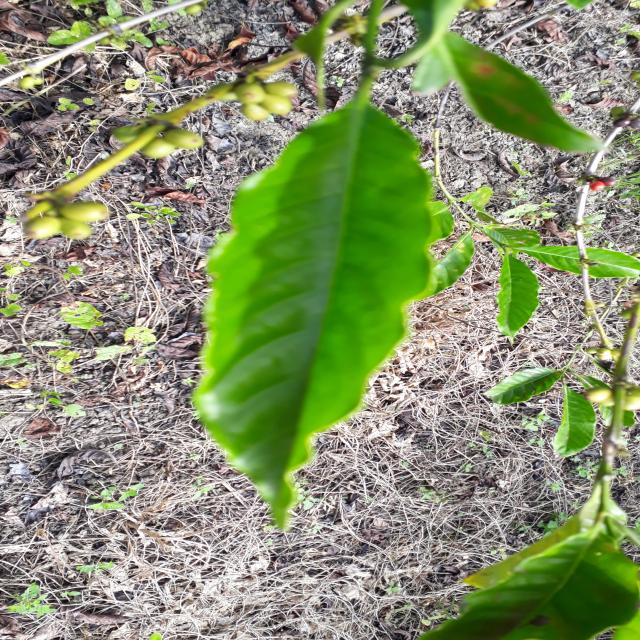Sanas: (190, 84, 477, 532)
